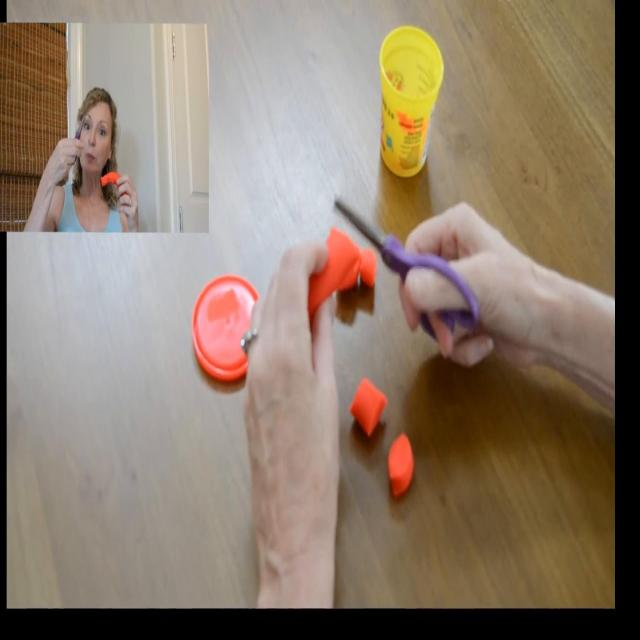scissor: (334, 198, 478, 342), (71, 114, 85, 165)
